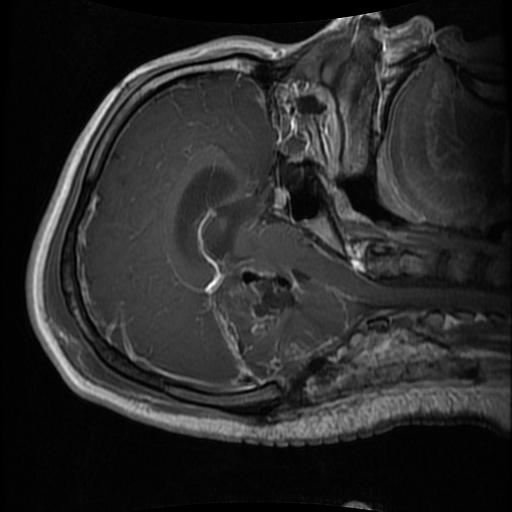glioma: (223, 268, 316, 335)
